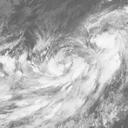cyclone: (35, 37, 85, 90)
